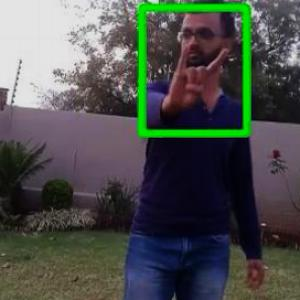takeoff-hand: (168, 35, 230, 114)
